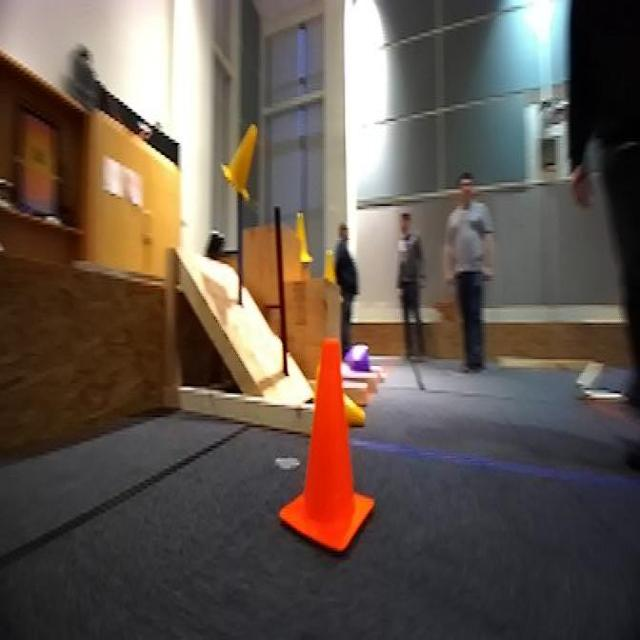frc_cone: (214, 100, 279, 204), (288, 211, 312, 271), (321, 242, 345, 284), (344, 392, 368, 426)
frc_cube: (351, 339, 374, 369)
